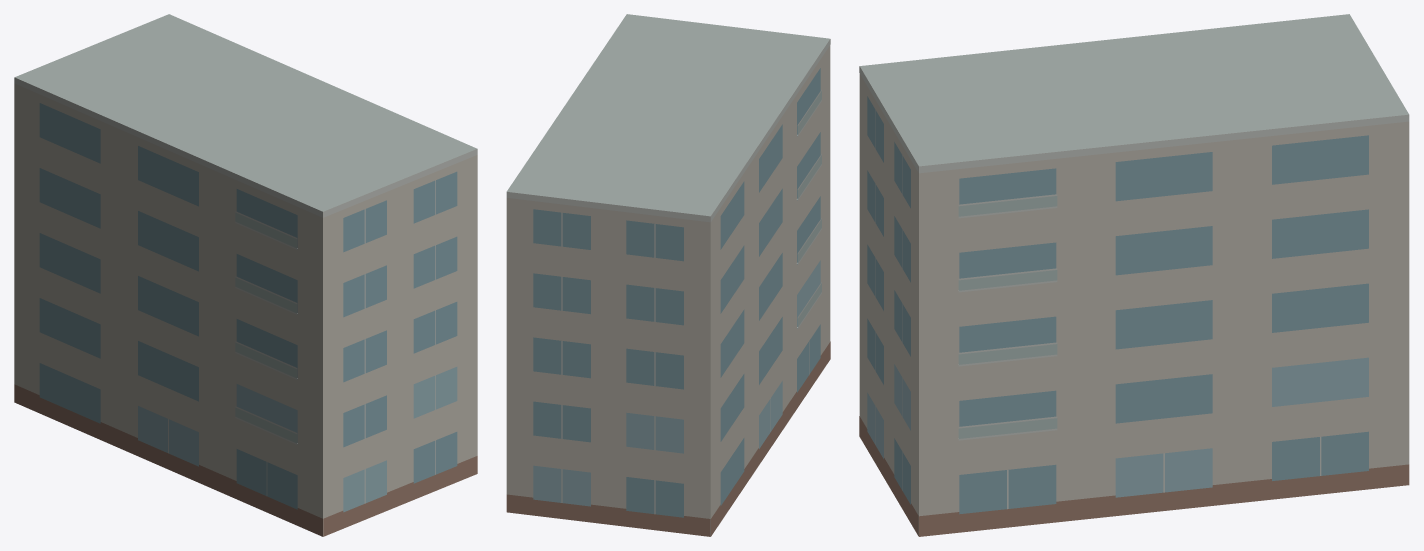
File: survey-upis-32720932.glb
3 renders of one model, left to right at view 1: azimuth 30°, elevation 25°; view 2: azimuth 150°, elevation 25°; view 3: azimuth 270°, elevation 25°, orthographic. The views are drawn at different scales.
Parts seen in each view (by area): view 1: survey-upis-32720932.tmp; view 2: survey-upis-32720932.tmp; view 3: survey-upis-32720932.tmp.
Part boxes in pixels (x1,y1,x2,y2): survey-upis-32720932.tmp: [14, 14, 477, 536]; survey-upis-32720932.tmp: [506, 14, 830, 536]; survey-upis-32720932.tmp: [859, 14, 1409, 536].
Size of the model in its own units: 11.57 by 13.1 by 17.63.
